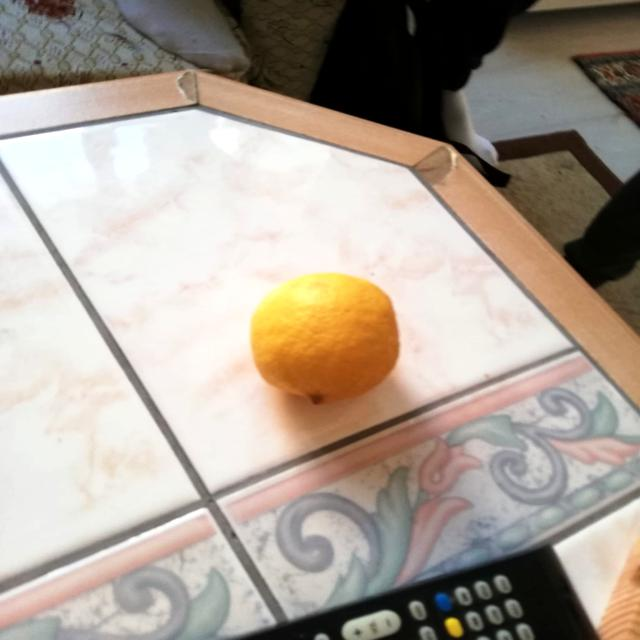lemon: (242, 264, 408, 410)
